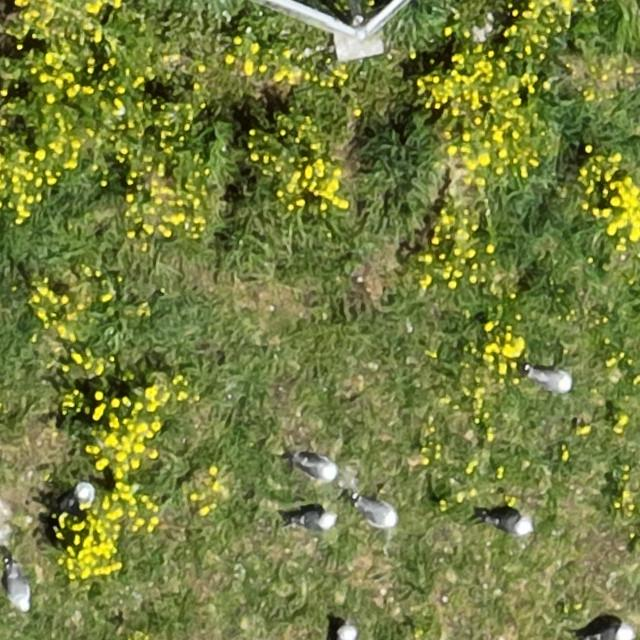umineko: (7, 568, 30, 610), (532, 371, 573, 392), (492, 514, 533, 534), (363, 502, 397, 526), (300, 459, 336, 481), (295, 511, 335, 528), (589, 625, 629, 639)
